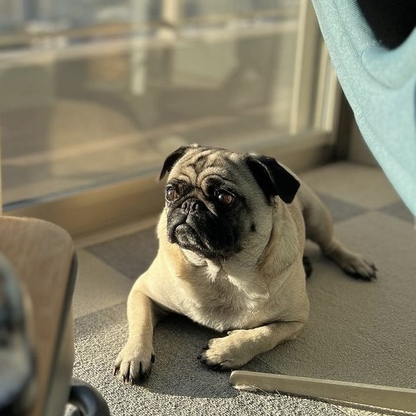Pug: (108, 138, 381, 388)
